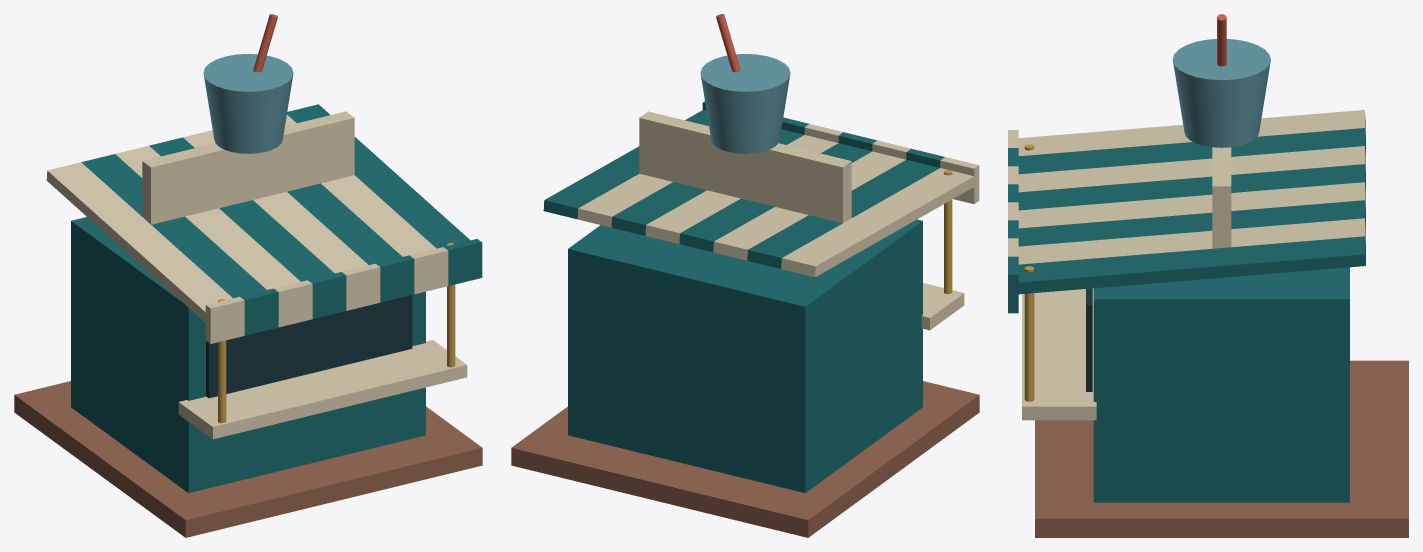
File: stall_drink.glb
The picture shows the model from 3 angles, left to right: view 1: azimuth 30°, elevation 25°; view 2: azimuth 150°, elevation 25°; view 3: azimuth 270°, elevation 25°; orthographic projection. The views are drawn at different scales.
Parts seen in each view (by area): view 1: stall_drink; view 2: stall_drink; view 3: stall_drink.
Boxes of the visible parts, x1,y1,x2,y2 form: stall_drink: [14, 14, 482, 537]; stall_drink: [511, 14, 979, 537]; stall_drink: [1008, 14, 1408, 537].
Size of the model in its own units: 3.5 by 4.71 by 3.75.
